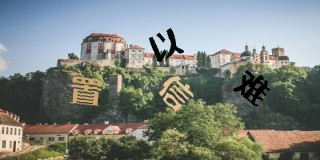以: (148, 27, 185, 62)
信: (158, 75, 193, 111)
置: (67, 76, 103, 107)
难: (234, 70, 271, 107)
